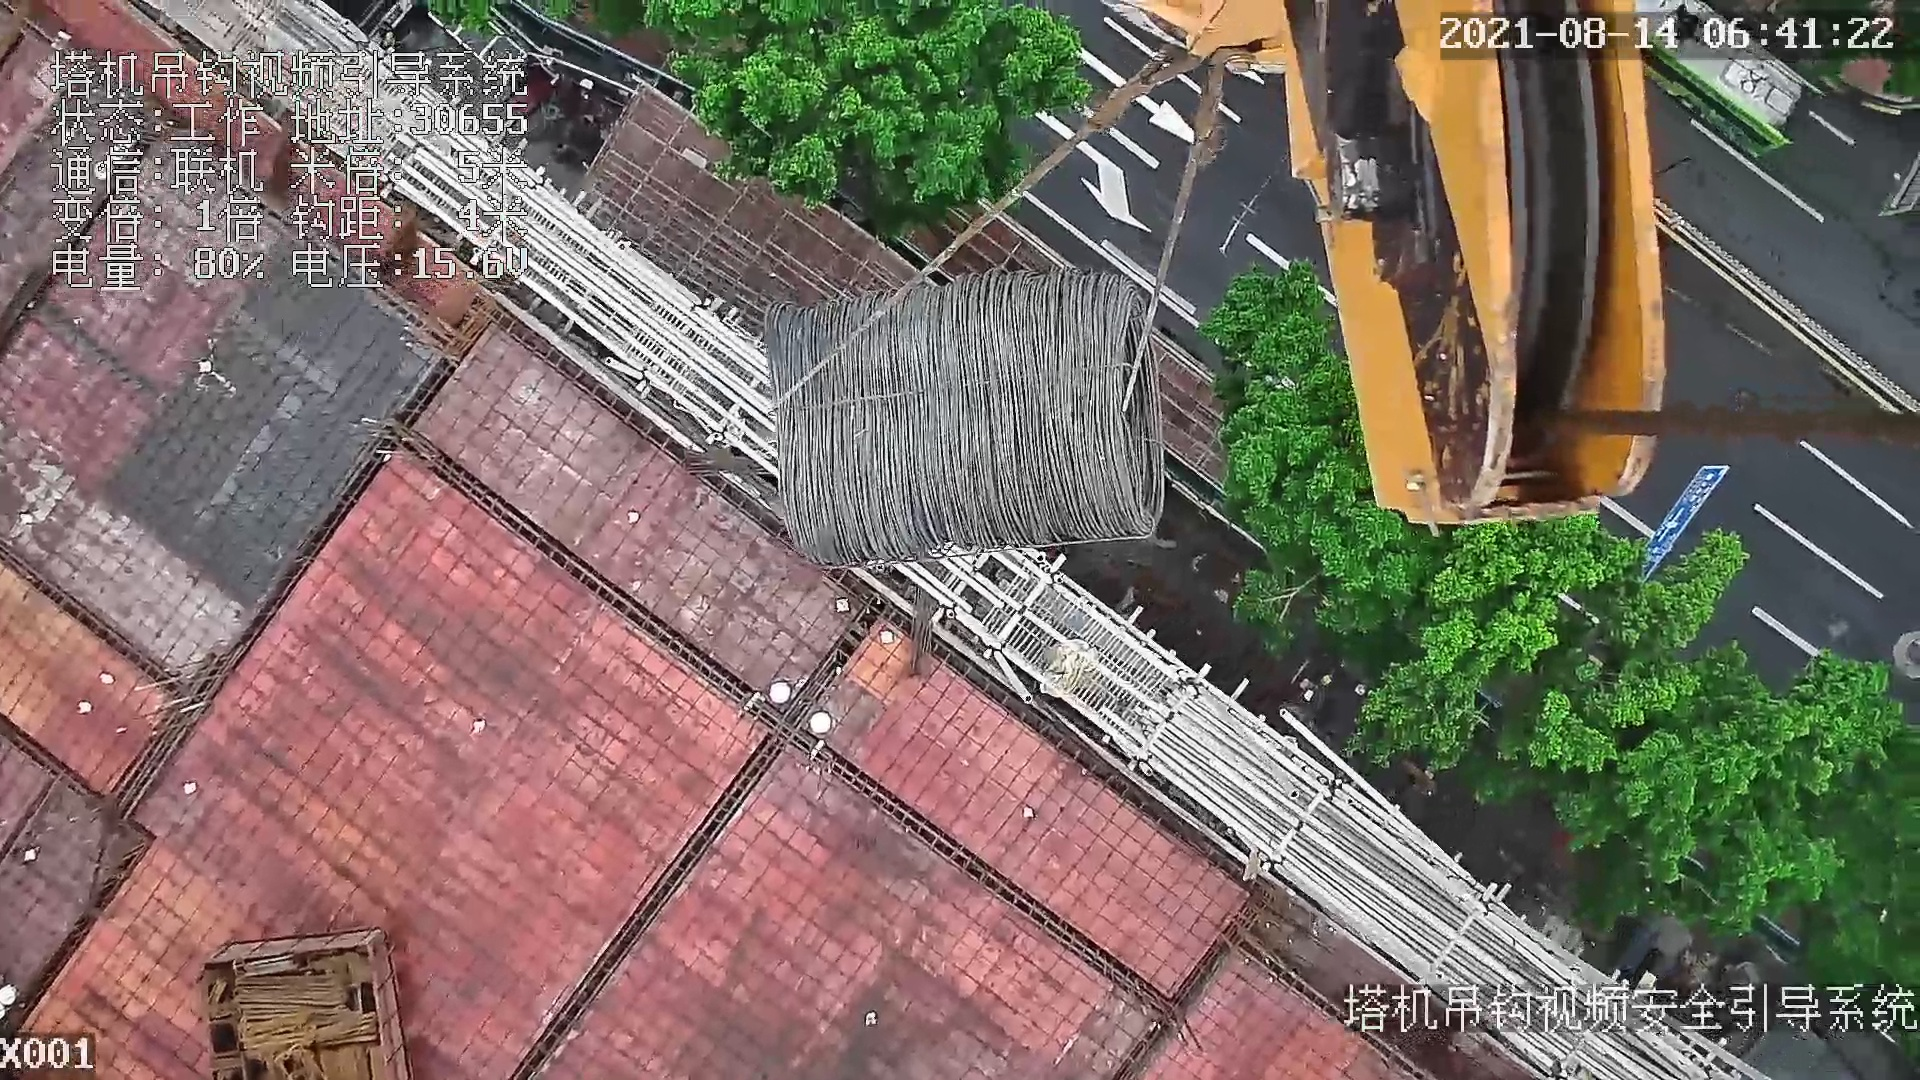hook: (1077, 1, 1687, 520)
